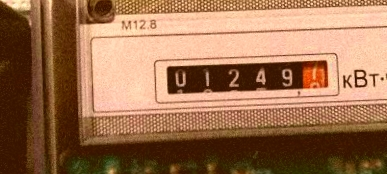0: (173, 67, 187, 87)
1: (200, 66, 213, 87)
2: (225, 66, 242, 88)
4: (254, 65, 267, 85)
7: (308, 59, 321, 80)
9: (280, 66, 294, 87)
screen: (150, 48, 343, 105)
